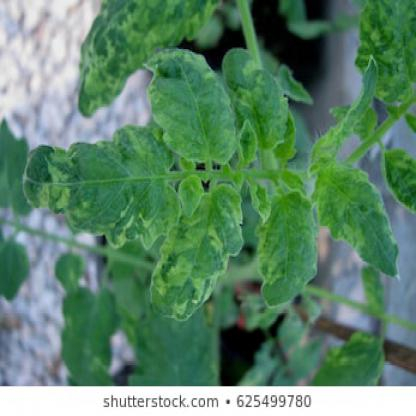tomato leaf mosaic virus: (18, 122, 188, 250), (151, 178, 243, 324), (147, 43, 247, 172), (305, 156, 399, 279), (257, 187, 320, 324)
